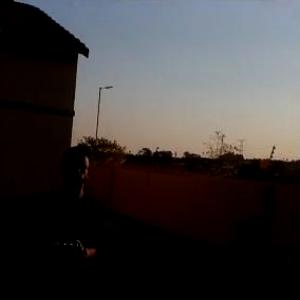follow: (21, 141, 112, 299)
